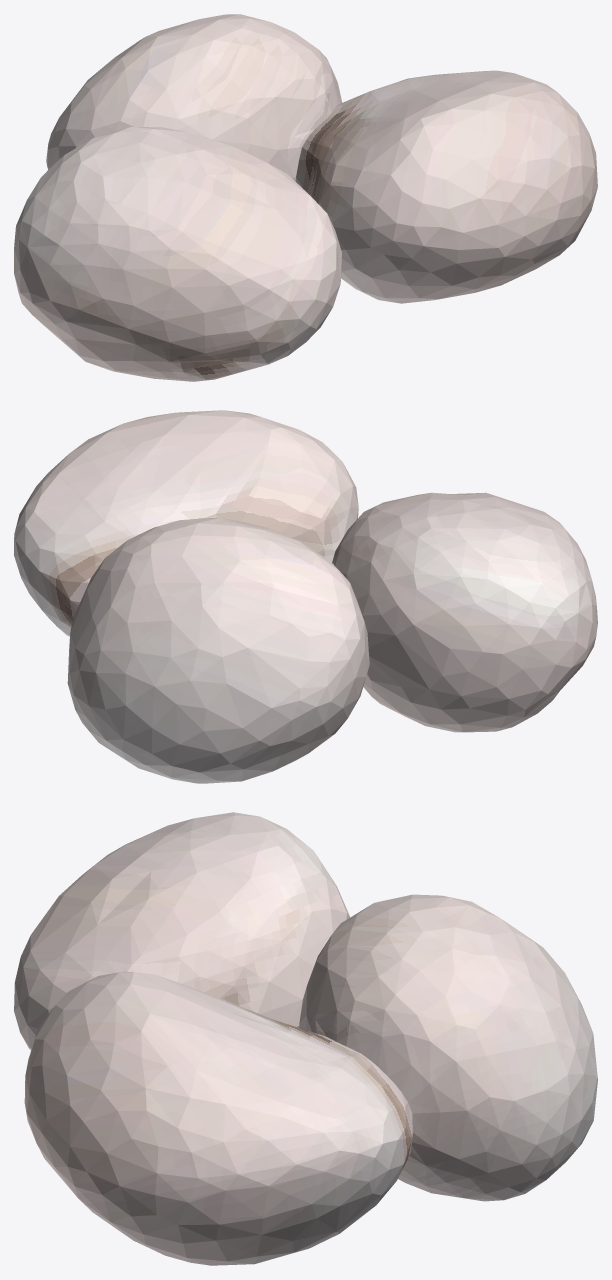
The model's file is MentosCaps.fbx.
3 views of the same model, one above another, from view 1: azimuth 30°, elevation 25°; view 2: azimuth 150°, elevation 25°; view 3: azimuth 270°, elevation 25° (orthographic). The views are drawn at different scales.
Parts seen in each view (by area): view 1: Mesh1.0; view 2: Mesh1.0; view 3: Mesh1.0.
Boxes of the visible parts, <box> form: Mesh1.0: <box>14,14,597,381</box>; Mesh1.0: <box>14,410,597,783</box>; Mesh1.0: <box>14,812,597,1265</box>.
Bounding box in the file's own units: 91.87 × 36.7 × 73.85.
Materials: 1 (1 with a texture image).
